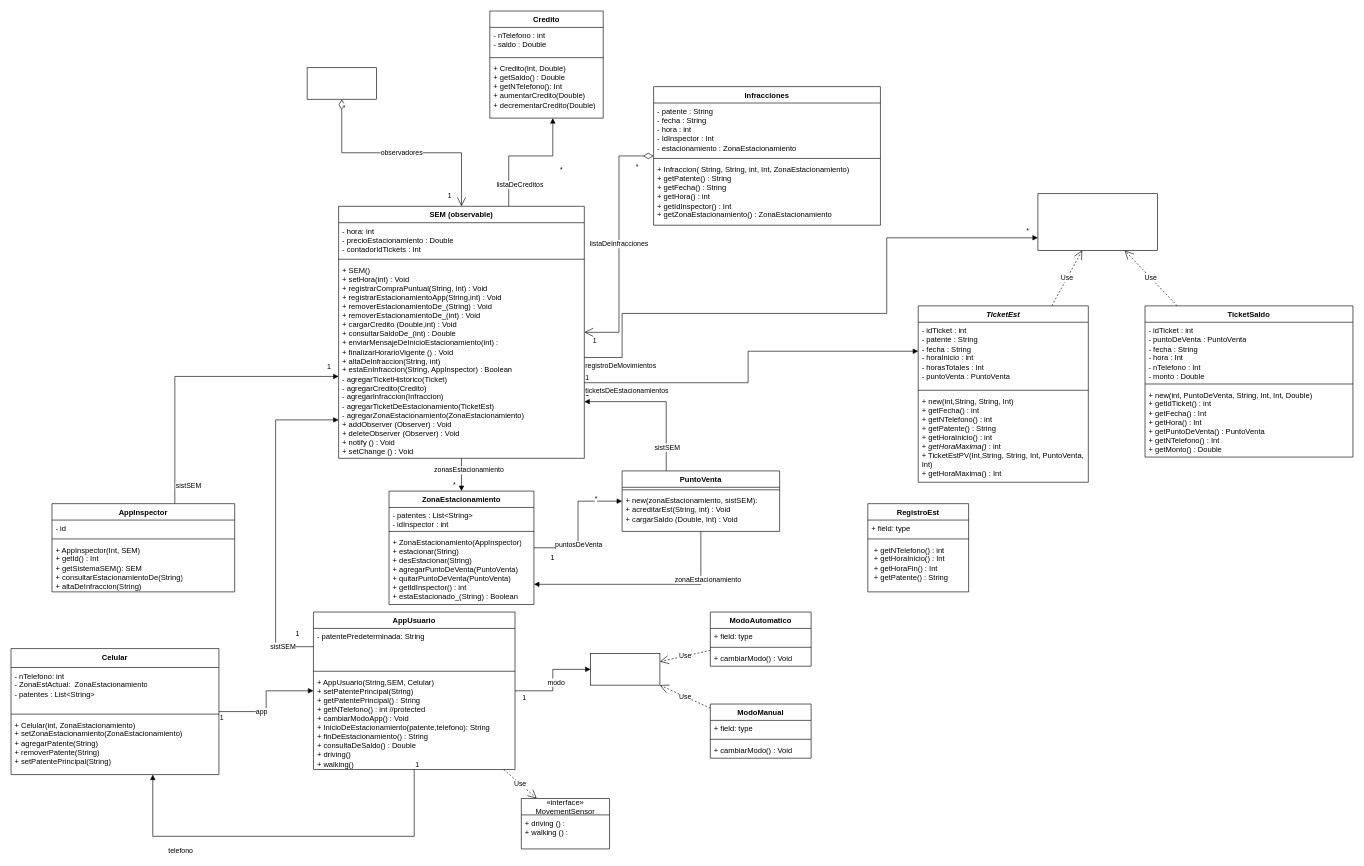
This 1364x866 diagram has some shape labels left out. The centre of each missing label's shape, as x and y in pixels:
"<<interface>> Ticket + getIdTicket() : int + getFecha() : int" goes at point (1097, 221).
"«interface» Modo" goes at point (625, 669).
"«interface» Observadores" goes at point (341, 83).
